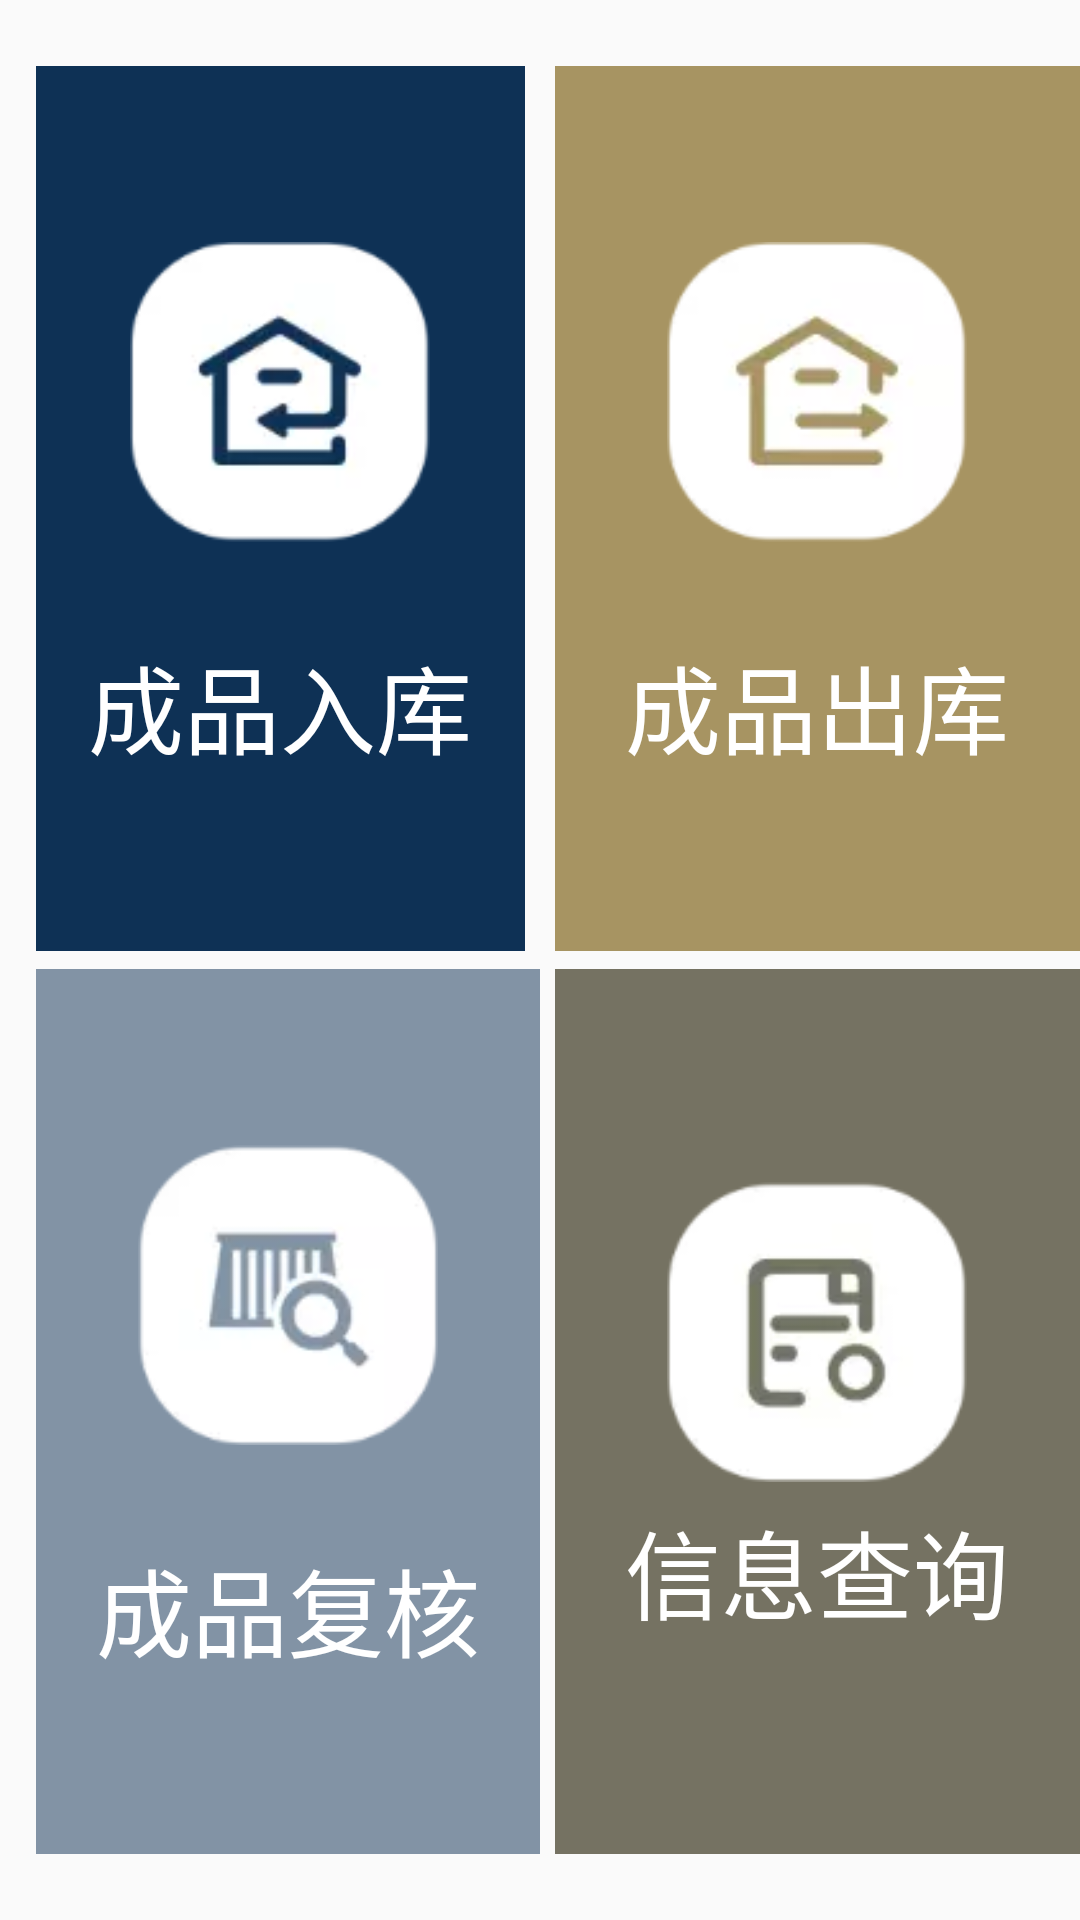

Screen size 1080px x 1920px. Icon name, then its box in pixels as [x1,y1,x2,y2]:
productin: [130,242,429,541]
productout: [667,242,965,540]
productverify: [140,1147,437,1445]
